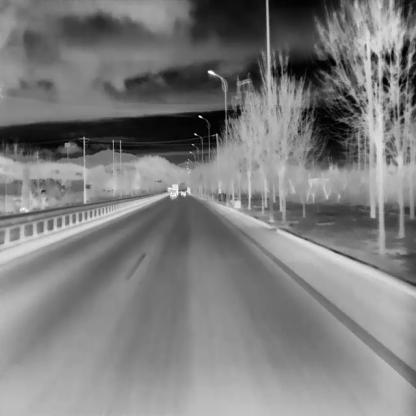car: (171, 183, 178, 196), (169, 190, 176, 198), (180, 189, 185, 195)
